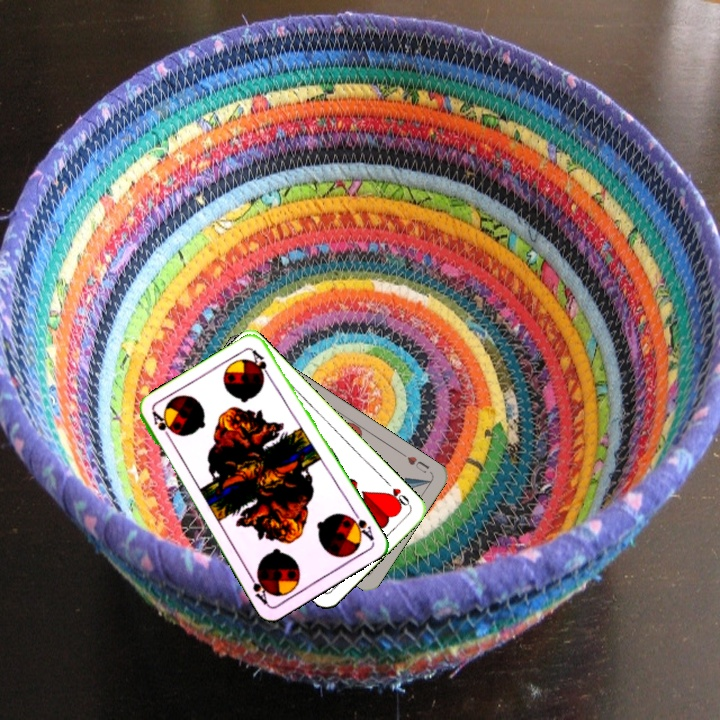HO: (381, 476, 413, 510)
HU: (403, 452, 432, 476)
SA: (344, 507, 377, 544), (148, 408, 175, 445)
